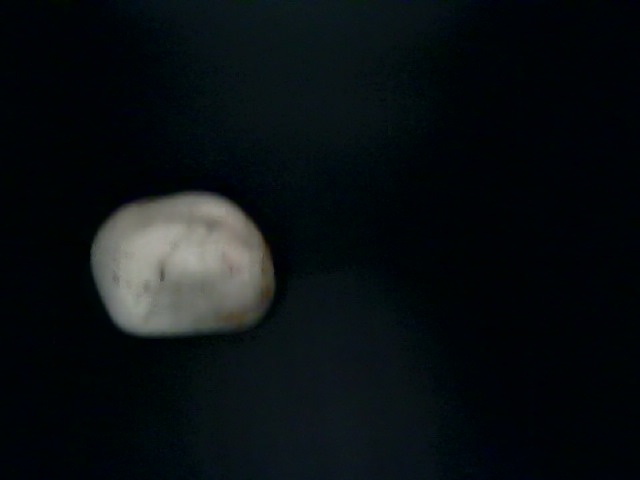QTLJ: (469, 237, 634, 480)
